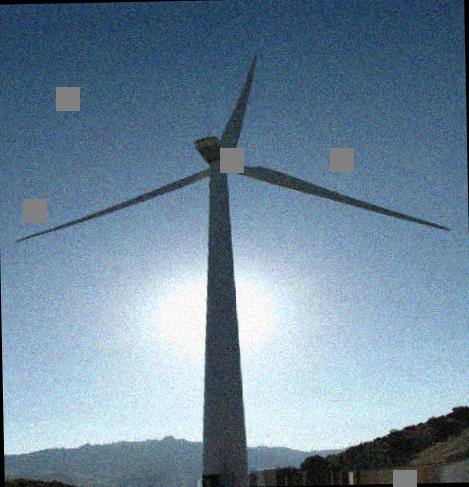wind turbine: (13, 53, 452, 461)
